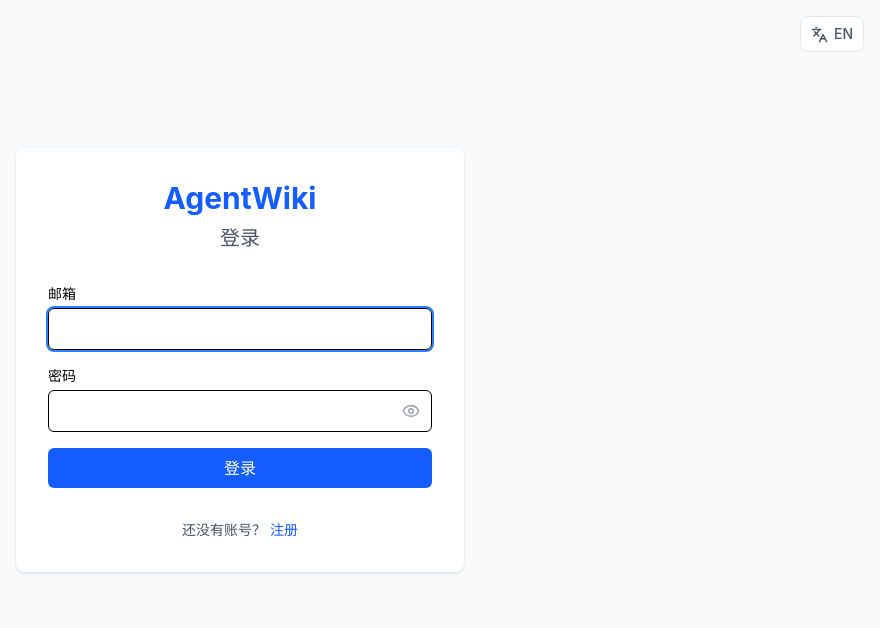
Test: Login › renders a localized invalid-credential response
The image size is (880, 628).
Step 1. Type "u@example.com" into the field labelled "邮箱" → (240, 329), box top-left (48, 308), bottom-right (432, 350)
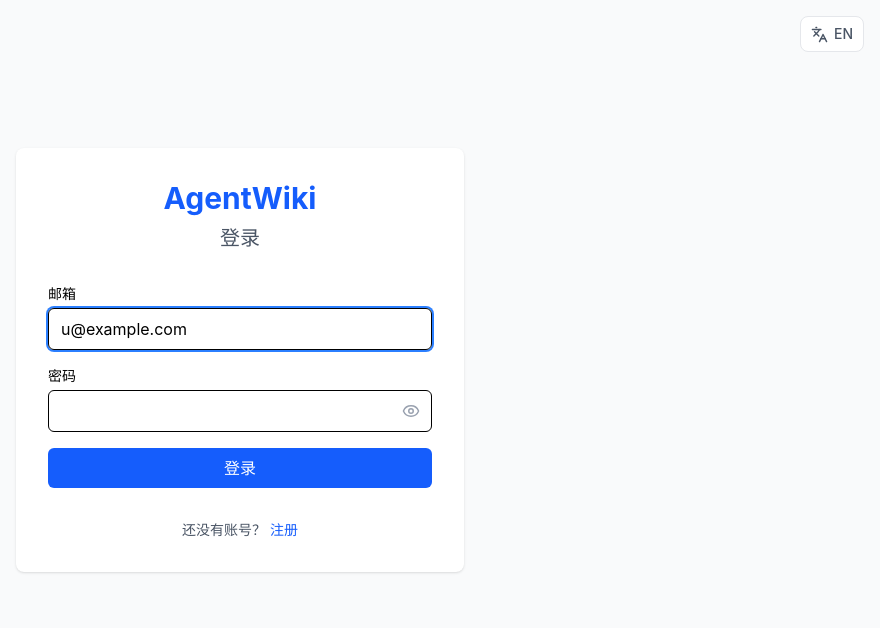
Step 2. Type "wrong" into the password field labelled "密码" → (240, 411), box top-left (48, 390), bottom-right (432, 432)
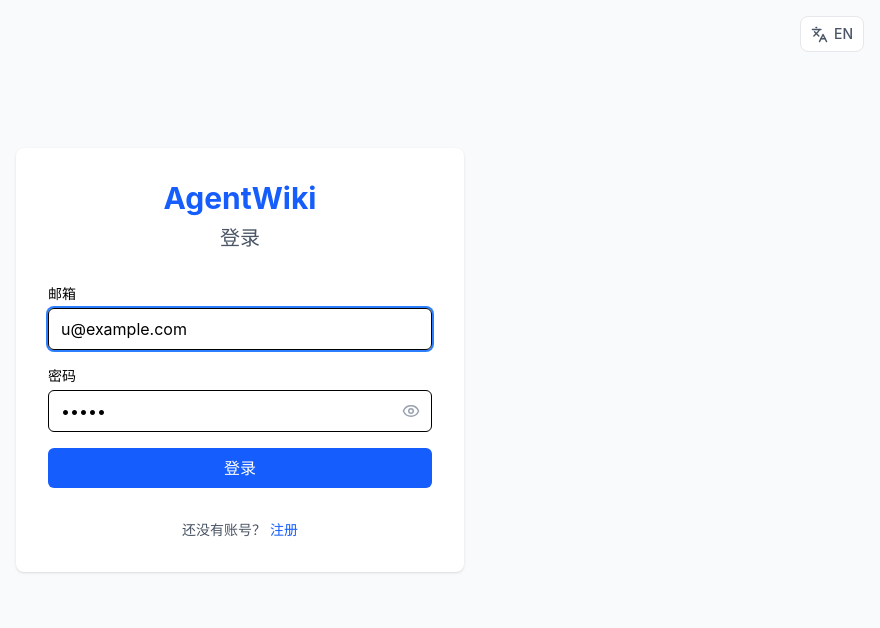
Step 3. Click the button "登录" → (240, 468), box top-left (48, 448), bottom-right (432, 488)
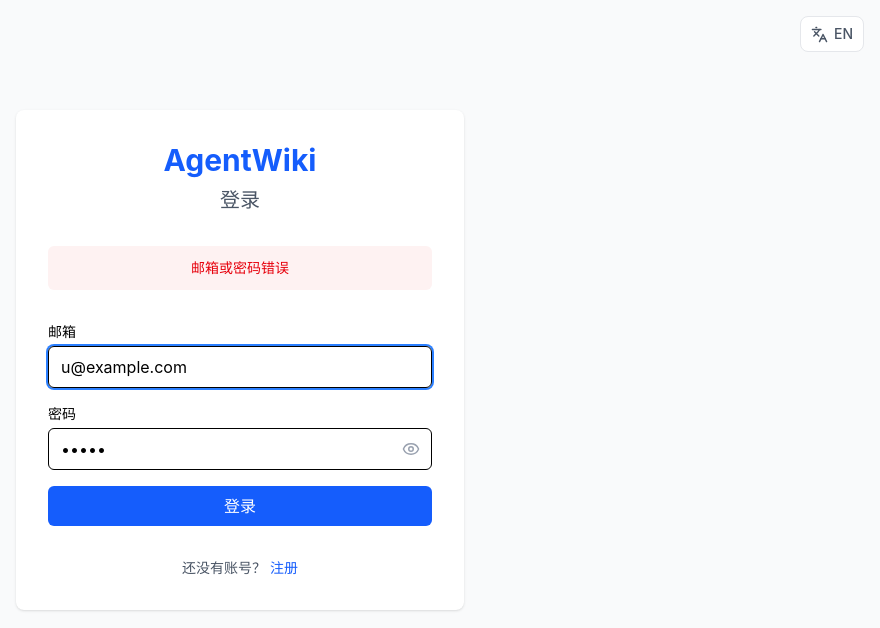
Now the message reads "邮箱或密码错误", box top-left (191, 259), bottom-right (289, 276)
